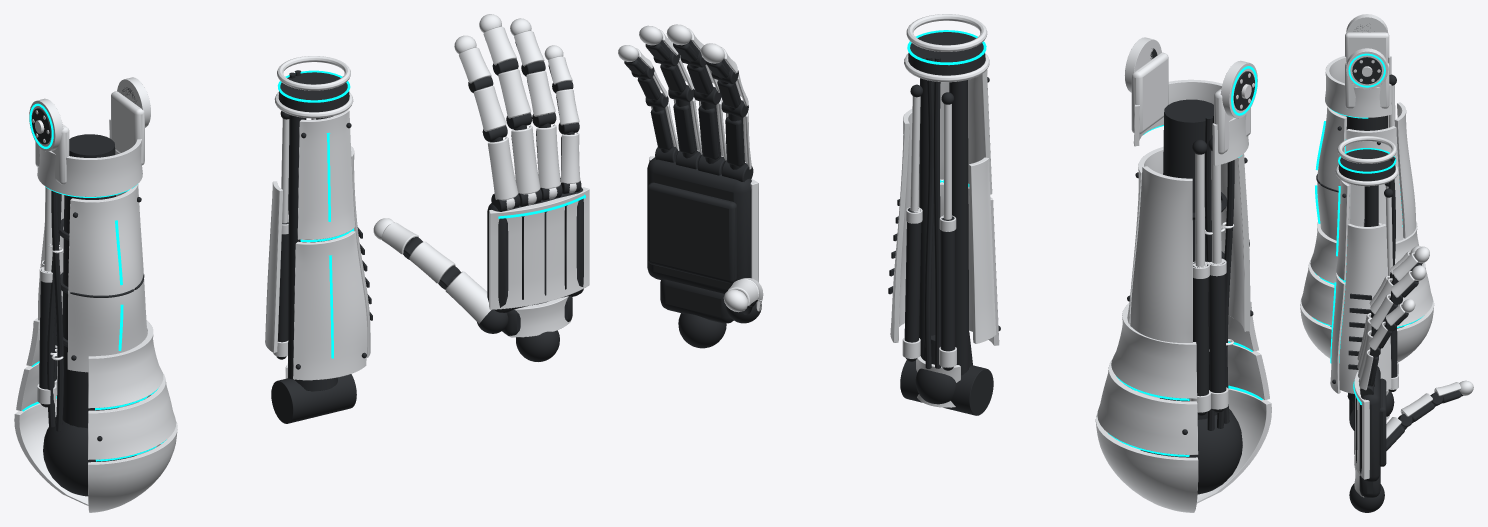
File: arm-mk1.glb
3 renders of one model, left to right at view 1: azimuth 30°, elevation 25°; view 2: azimuth 150°, elevation 25°; view 3: azimuth 270°, elevation 25°, orthographic. The views are drawn at different scales.
Visible parts, largest first — view 1: UpperArm, Forearm, Hand, Thumb1, Middle1, Index1, Ring1, Middle3, Middle2, Thumb2, Index3, Index2 (+6 smaller); view 2: UpperArm, Forearm, Hand, Middle1, Index1, Ring1, Pinky1, Middle3, Index3, Ring3, Middle2, Ring2 (+3 smaller); view 3: UpperArm, Forearm, Hand, Ring3, Thumb2, Thumb3, Pinky1, Middle3, Pinky3, Ring2, Pinky2, Thumb1 (+2 smaller).
Part boxes in pixels (x1,y1,x2,y2): UpperArm: (14, 77, 177, 512); Forearm: (265, 56, 372, 423); Hand: (487, 183, 589, 361); Thumb1: (445, 271, 508, 333); Middle1: (511, 125, 542, 206); Index1: (488, 136, 520, 211); Ring1: (536, 123, 562, 200); Middle3: (479, 14, 518, 75); Middle2: (498, 69, 531, 129); Thumb2: (409, 241, 460, 289); Index3: (454, 35, 493, 92); Index2: (473, 85, 507, 141); UpperArm: (1095, 37, 1271, 512); Forearm: (888, 14, 1000, 415); Hand: (647, 156, 758, 348); Middle1: (697, 99, 726, 175); Index1: (721, 112, 753, 181); Ring1: (673, 97, 702, 169); Pinky1: (650, 103, 679, 162); Middle3: (666, 24, 706, 67); Index3: (700, 43, 738, 84); Ring3: (639, 25, 679, 66); Middle2: (687, 64, 721, 105); Ring2: (660, 56, 694, 102); UpperArm: (1300, 14, 1434, 361); Forearm: (1330, 136, 1398, 430); Hand: (1349, 366, 1386, 512); Ring3: (1391, 265, 1426, 304); Thumb2: (1398, 393, 1436, 426); Thumb3: (1430, 380, 1473, 405); Pinky1: (1359, 349, 1378, 396); Middle3: (1392, 246, 1429, 285); Pinky3: (1385, 299, 1415, 331); Ring2: (1370, 294, 1398, 335); Pinky2: (1369, 321, 1392, 356); Thumb1: (1386, 417, 1407, 450).
Bounding box in the file's own units: 1.72 × 1.24 × 0.5869.
